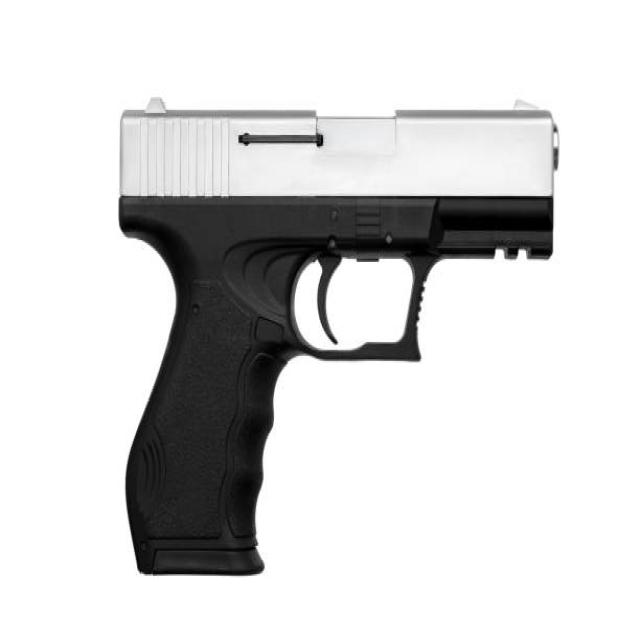pistol: (112, 92, 570, 591)
